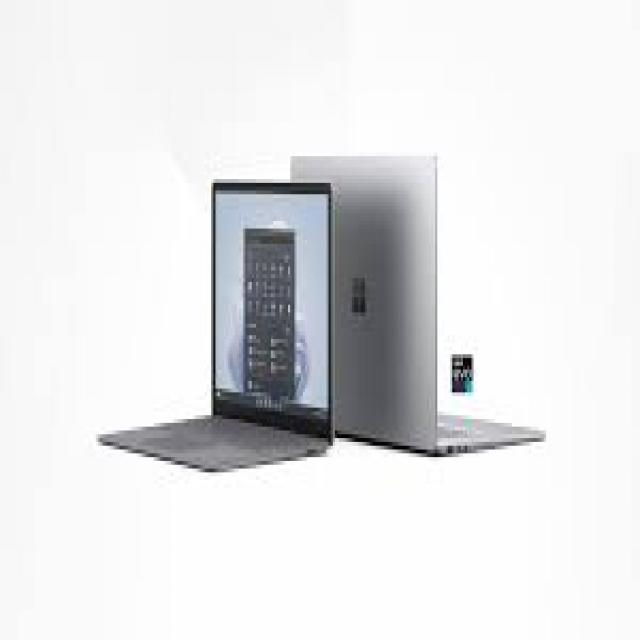others: (90, 133, 550, 480)
